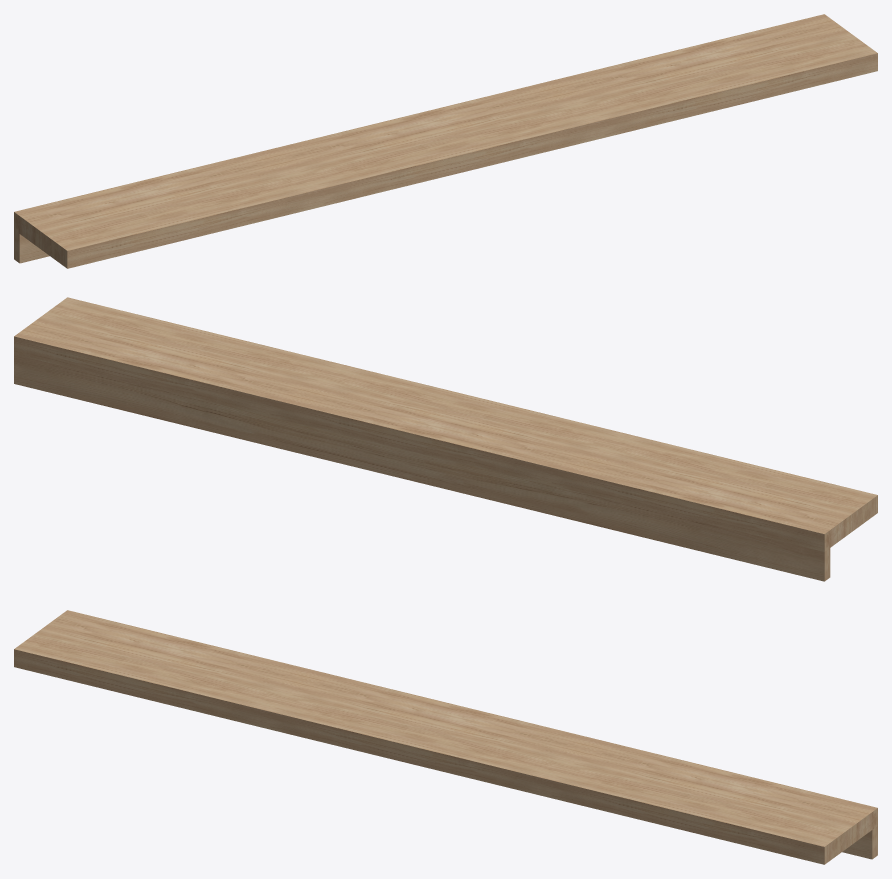
File: Shelf.FBX
3 views of the same model, one above another, from view 1: azimuth 30°, elevation 25°; view 2: azimuth 150°, elevation 25°; view 3: azimuth 330°, elevation 25° (orthographic).
Visible parts, largest first — view 1: shelf; view 2: shelf; view 3: shelf.
Boxes of the visible parts, x1=… form: shelf: x1=14, y1=14, x2=877, y2=268; shelf: x1=14, y1=297, x2=877, y2=581; shelf: x1=14, y1=610, x2=877, y2=864.
Size of the model in its own units: 256 by 14.32 by 29.22.
1 material, 1 textured.
